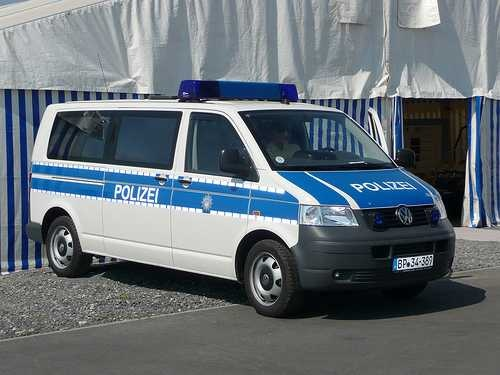Police Van: (7, 66, 447, 325)
